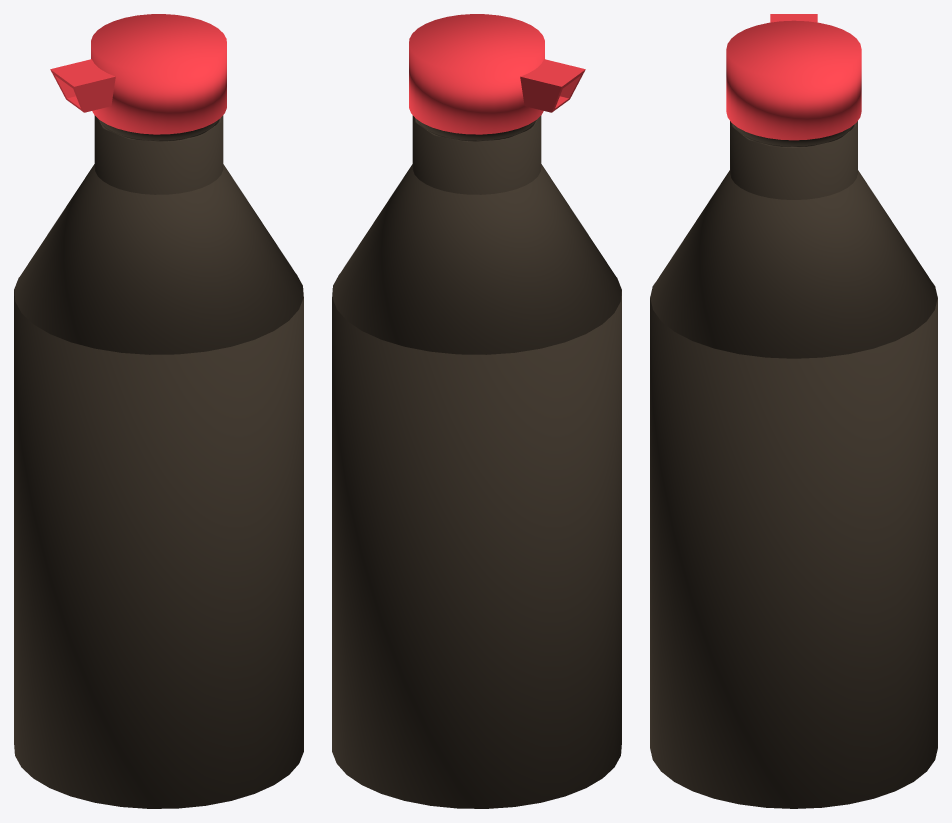
File: soyasaucebottle1.fbx
3 views of the same model, side by side, from view 1: azimuth 30°, elevation 25°; view 2: azimuth 150°, elevation 25°; view 3: azimuth 270°, elevation 25° (orthographic).
Parts seen in each view (by area): view 1: Cylinder.007, Cylinder.010, Cylinder.008, Cube.006, Cylinder.009; view 2: Cylinder.007, Cylinder.010, Cylinder.008, Cube.006, Cylinder.009; view 3: Cylinder.007, Cylinder.010, Cylinder.008, Cylinder.009.
Part boxes in pixels (bbox=[...]): Cylinder.007: bbox=[14, 164, 303, 808]; Cylinder.010: bbox=[91, 14, 226, 134]; Cylinder.008: bbox=[94, 115, 223, 194]; Cube.006: bbox=[50, 59, 115, 112]; Cylinder.009: bbox=[100, 120, 217, 140]; Cylinder.007: bbox=[332, 164, 621, 808]; Cylinder.010: bbox=[409, 14, 544, 134]; Cylinder.008: bbox=[412, 115, 541, 194]; Cube.006: bbox=[520, 59, 585, 112]; Cylinder.009: bbox=[418, 120, 535, 140]; Cylinder.007: bbox=[650, 170, 937, 808]; Cylinder.010: bbox=[726, 20, 861, 140]; Cylinder.008: bbox=[730, 121, 857, 199]; Cylinder.009: bbox=[735, 126, 852, 146].
Size of the model in its own units: 126 by 338 by 126.
